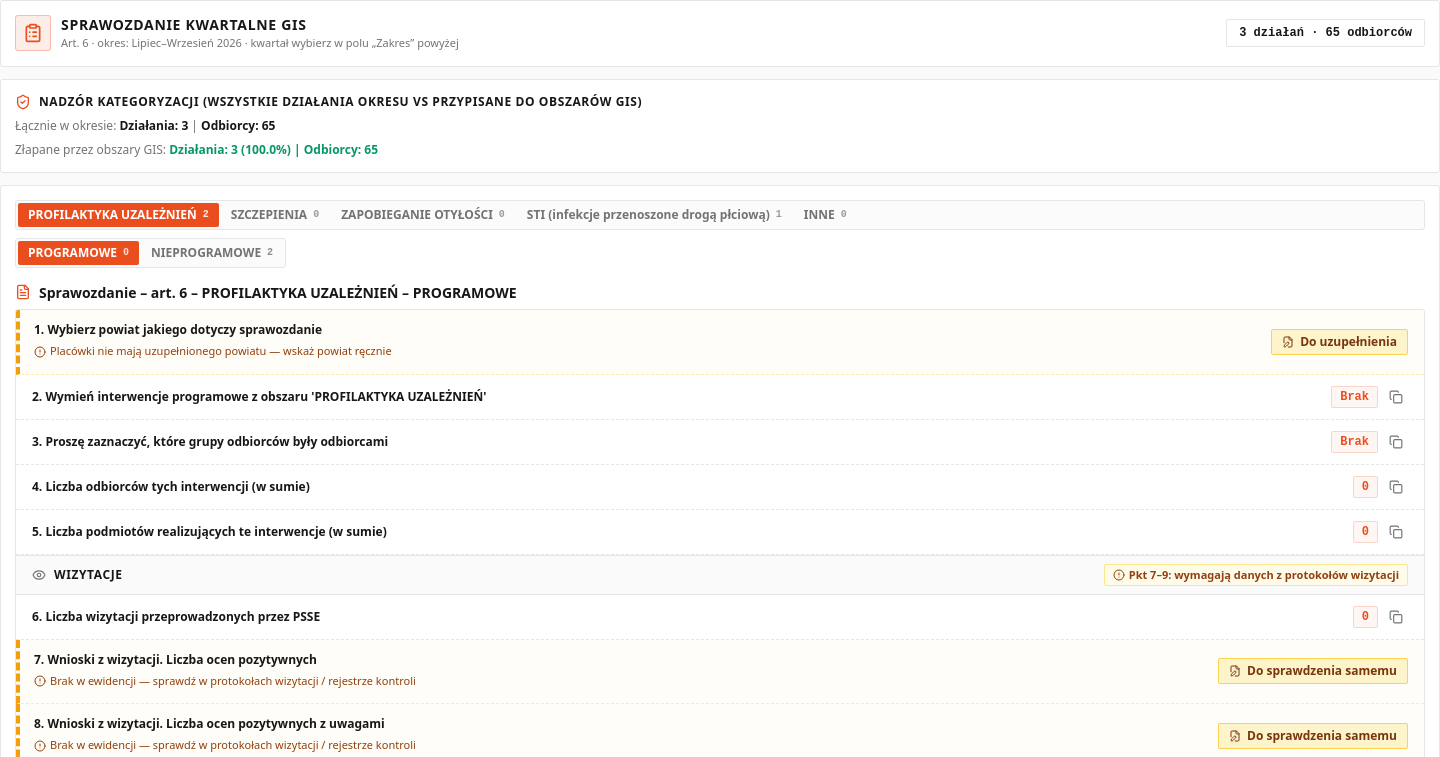
Test case: ReportGisTab › uses the GIS category configured in the dictionary
Click the tab "NIEPROGRAMOWE 2": (212, 252) x1=141 y1=240 x2=283 y2=264
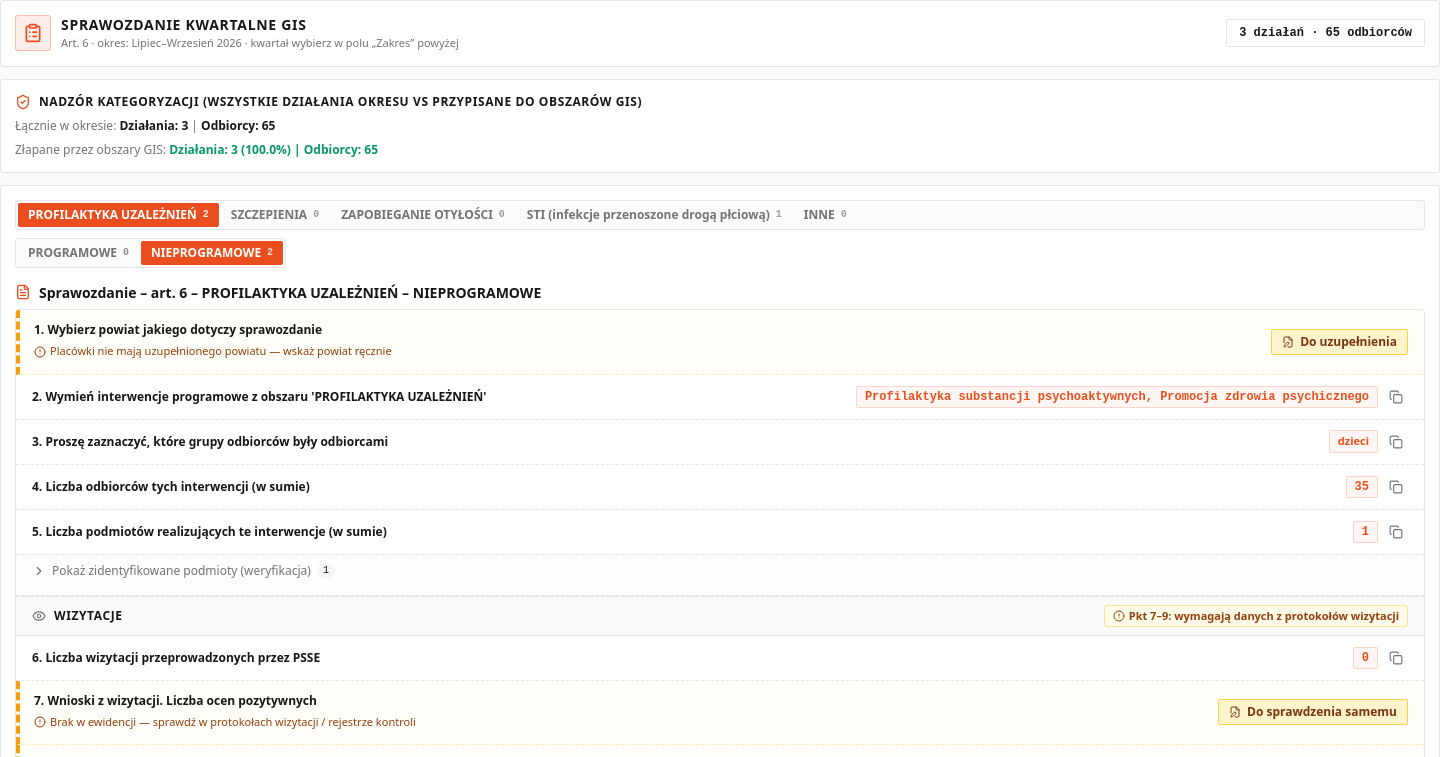
Check: the text "35" is shown, box x1=1346 y1=476 x2=1378 y2=498
